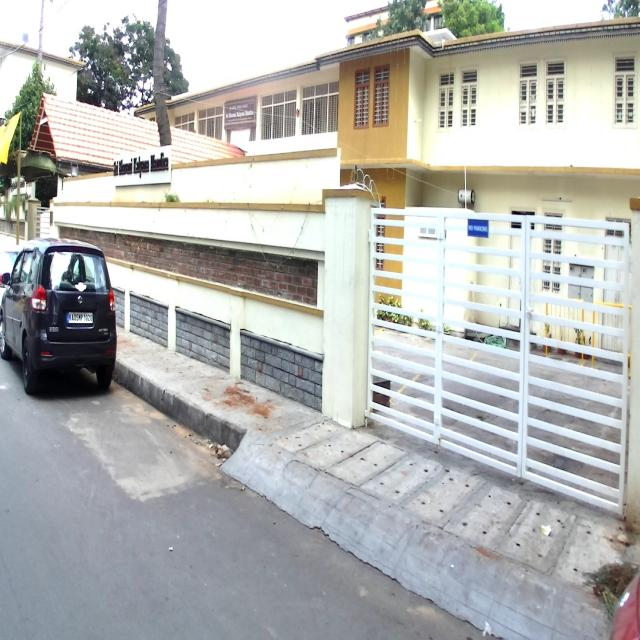Car_Maruti-Suzuki: (0, 236, 117, 393)
